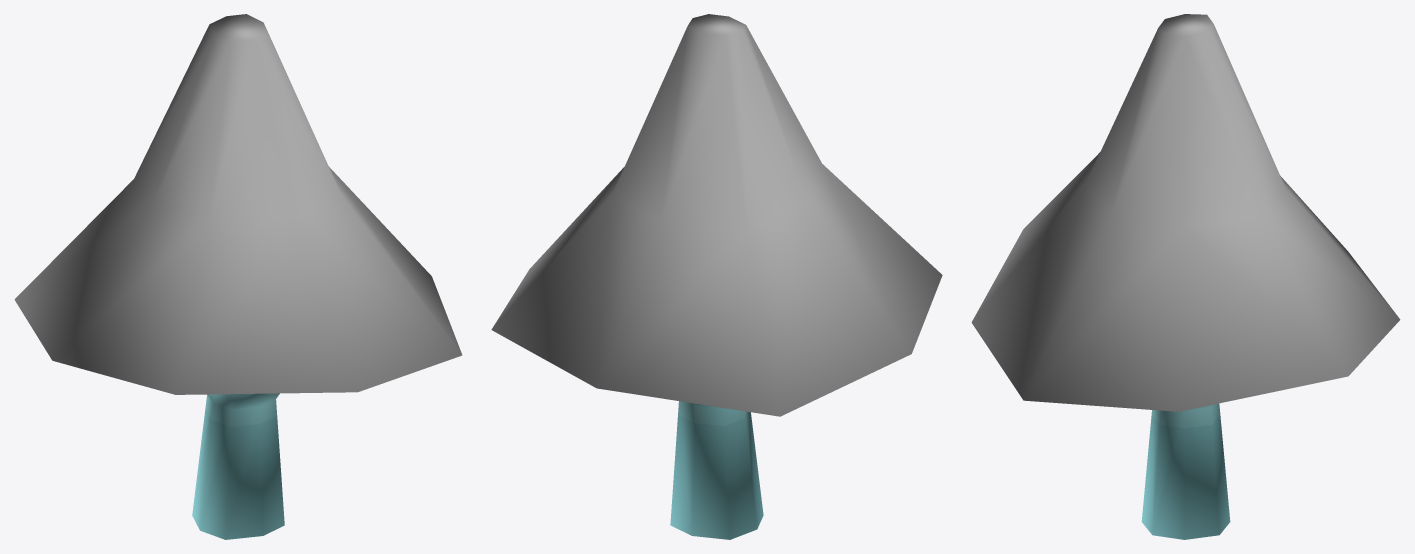
Rendered from DC_Mushroom2.fbx.
3 views of the same model, side by side, from view 1: azimuth 30°, elevation 25°; view 2: azimuth 150°, elevation 25°; view 3: azimuth 270°, elevation 25° (orthographic).
Parts seen in each view (by area): view 1: Mushroom2; view 2: Mushroom2; view 3: Mushroom2.
Boxes of the visible parts, x1,y1,x2,y2 form: Mushroom2: (14,14,462,539); Mushroom2: (491,14,942,539); Mushroom2: (971,14,1400,539).
Bounding box in the file's own units: 0.3286 × 0.4089 × 0.3192.
Materials: 2 (1 with a texture image).
